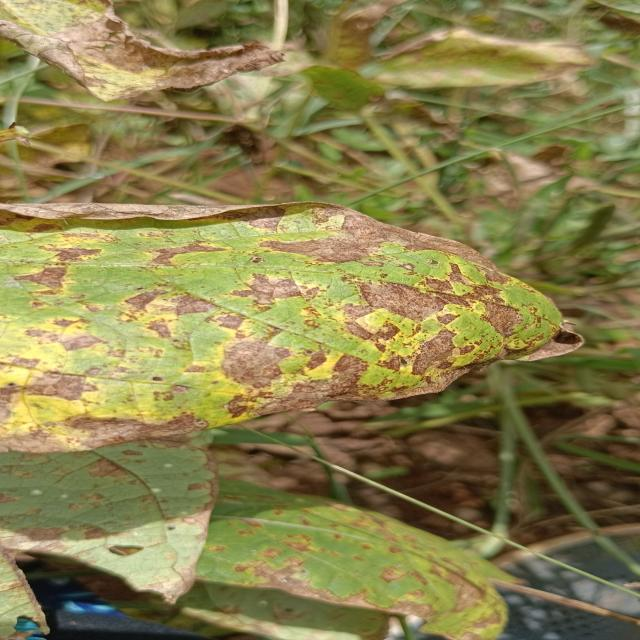Black gram_leaf spot: (0, 192, 607, 457), (105, 482, 529, 640)
